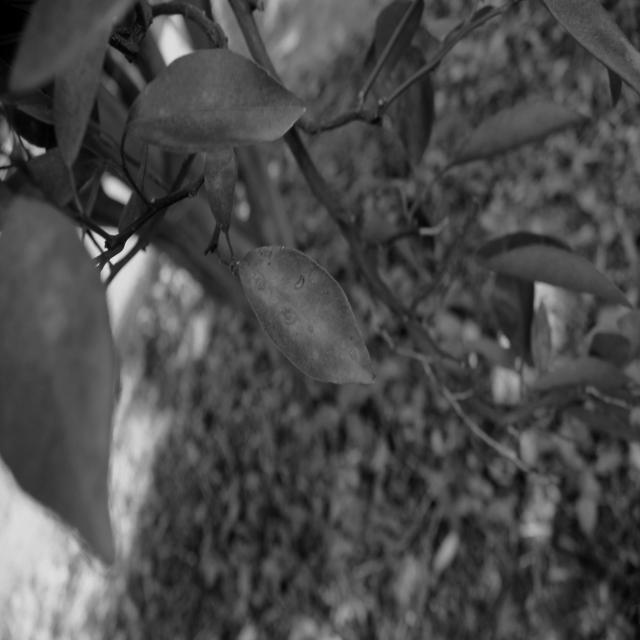canker: (252, 254, 360, 378), (15, 230, 92, 382), (151, 80, 265, 138)
